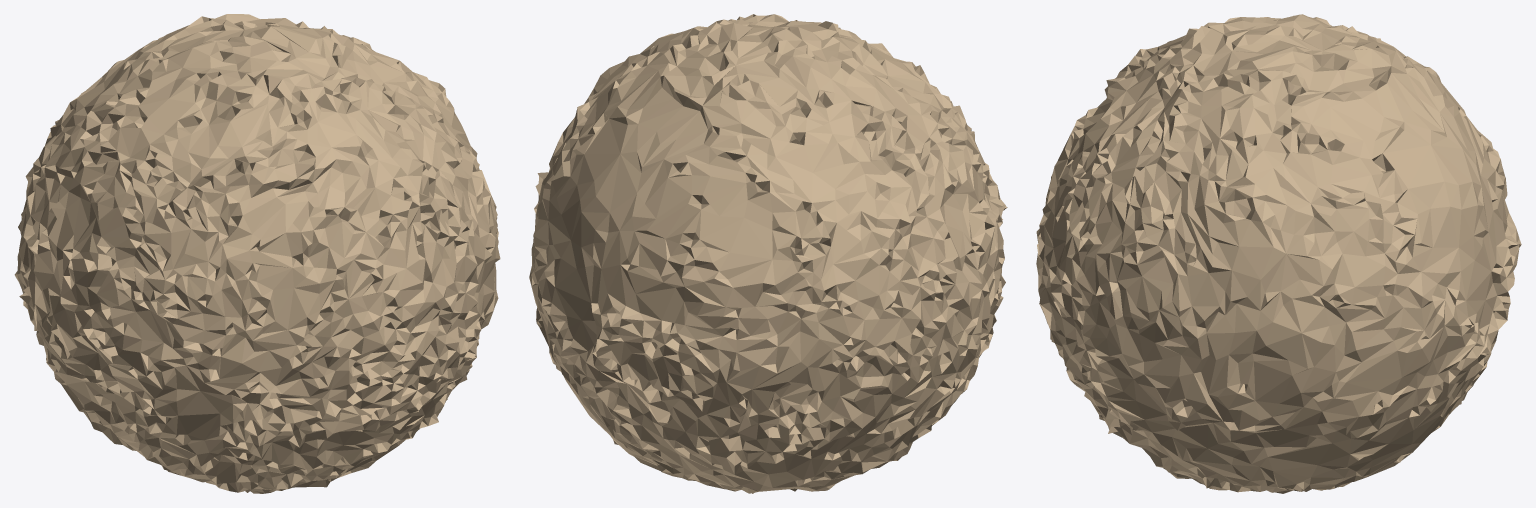
File: mercury.glb
3 views of the same model, side by side, from view 1: azimuth 30°, elevation 25°; view 2: azimuth 150°, elevation 25°; view 3: azimuth 270°, elevation 25° (orthographic).
Visible parts, largest first — view 1: Mercury; view 2: Mercury; view 3: Mercury.
Boxes of the visible parts, x1,y1,x2,y2 form: Mercury: [14, 14, 500, 493]; Mercury: [529, 14, 1007, 493]; Mercury: [1036, 14, 1521, 493].
Bounding box in the file's own units: 0.1719 × 0.1703 × 0.171.
